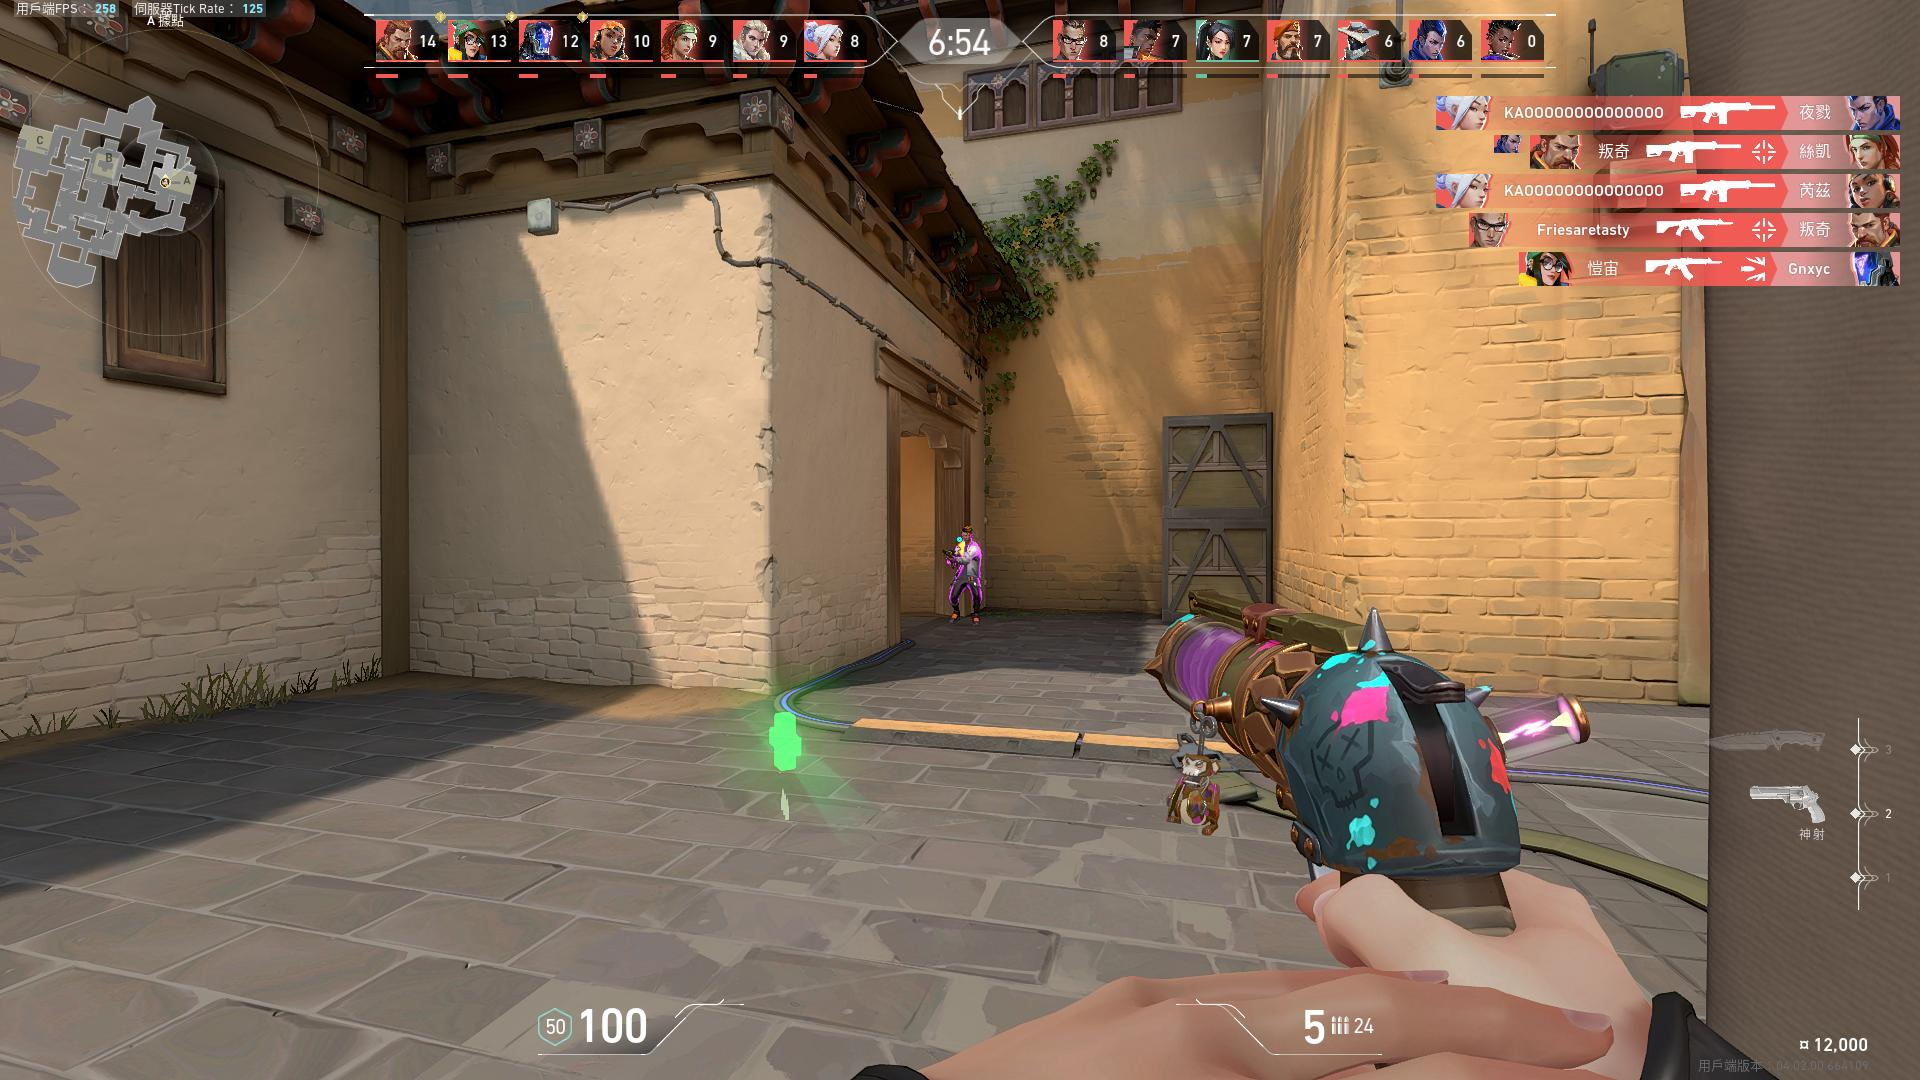enemyBody: (957, 545, 975, 574)
enemyHead: (963, 530, 971, 543)
